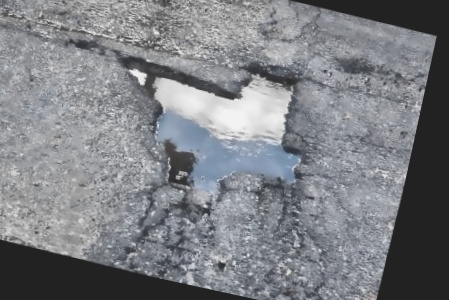pothole: (90, 28, 330, 224)
